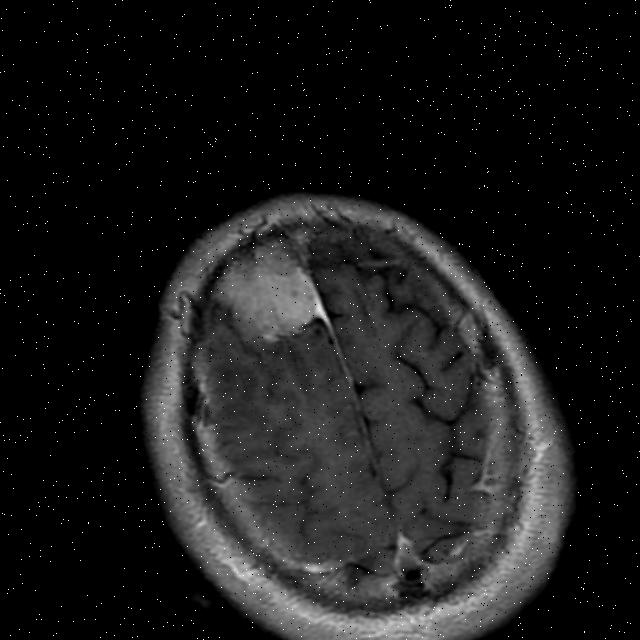Meningioma: (194, 226, 335, 360)
